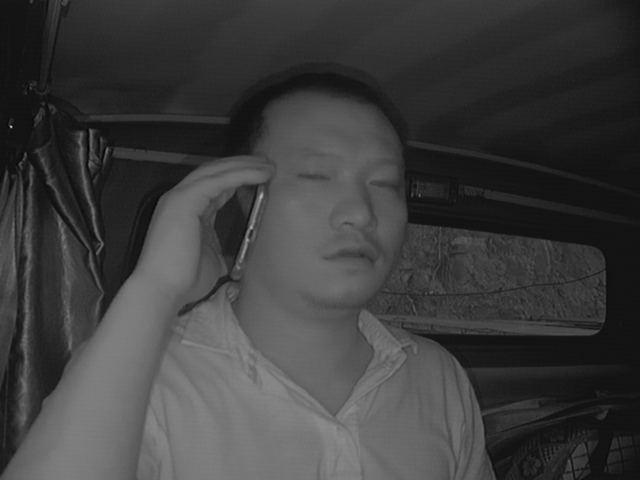hand: (143, 151, 270, 290)
